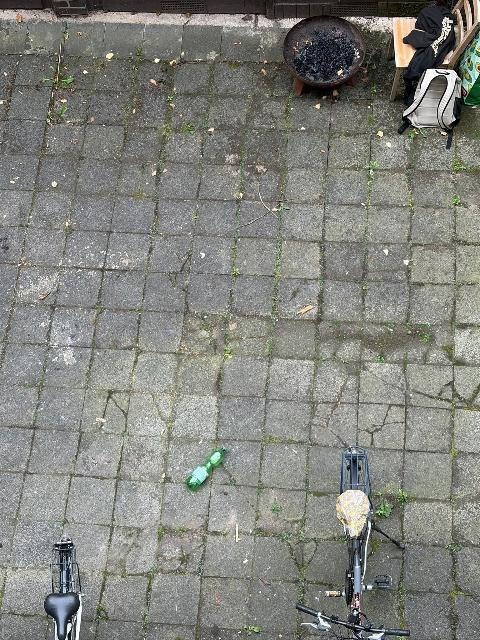plastic_bottle: (186, 447, 228, 491)
